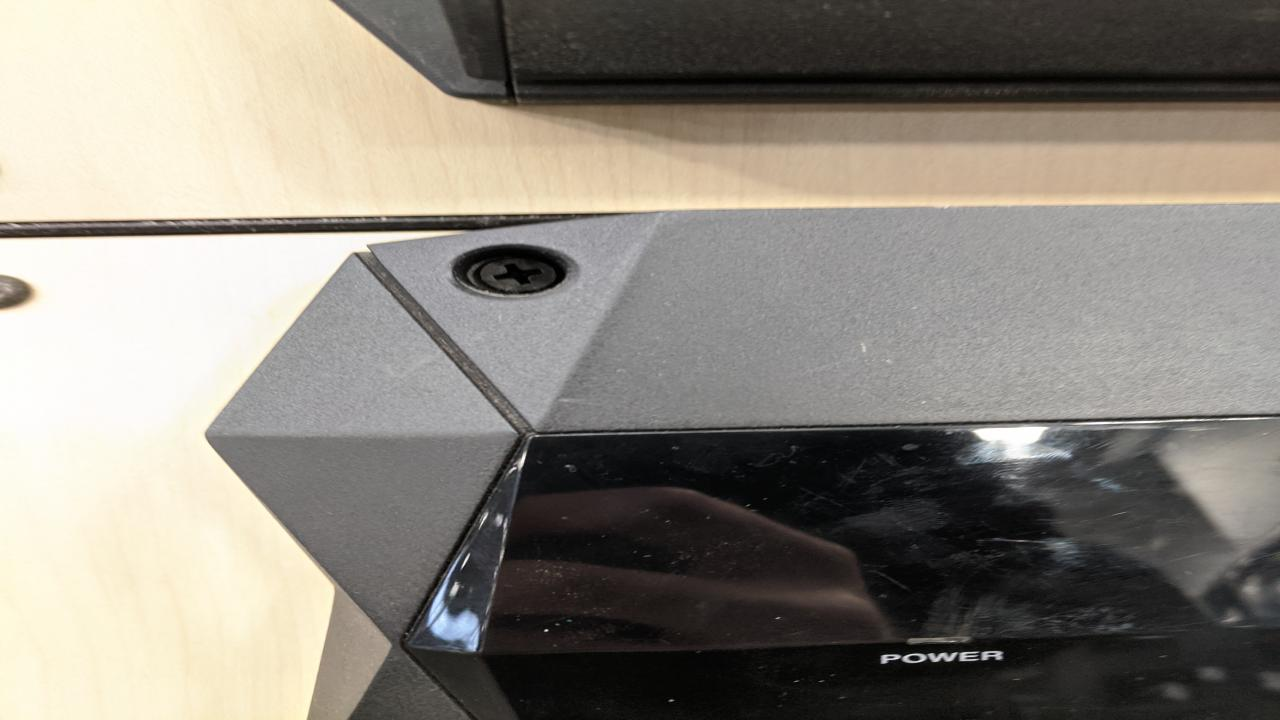CRS: (467, 256, 568, 299)
